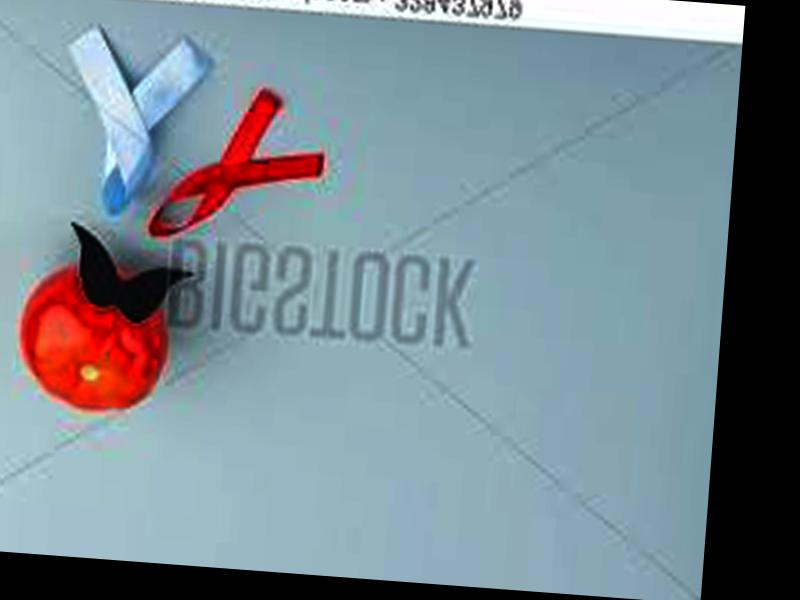Tomato: (16, 260, 173, 416)
